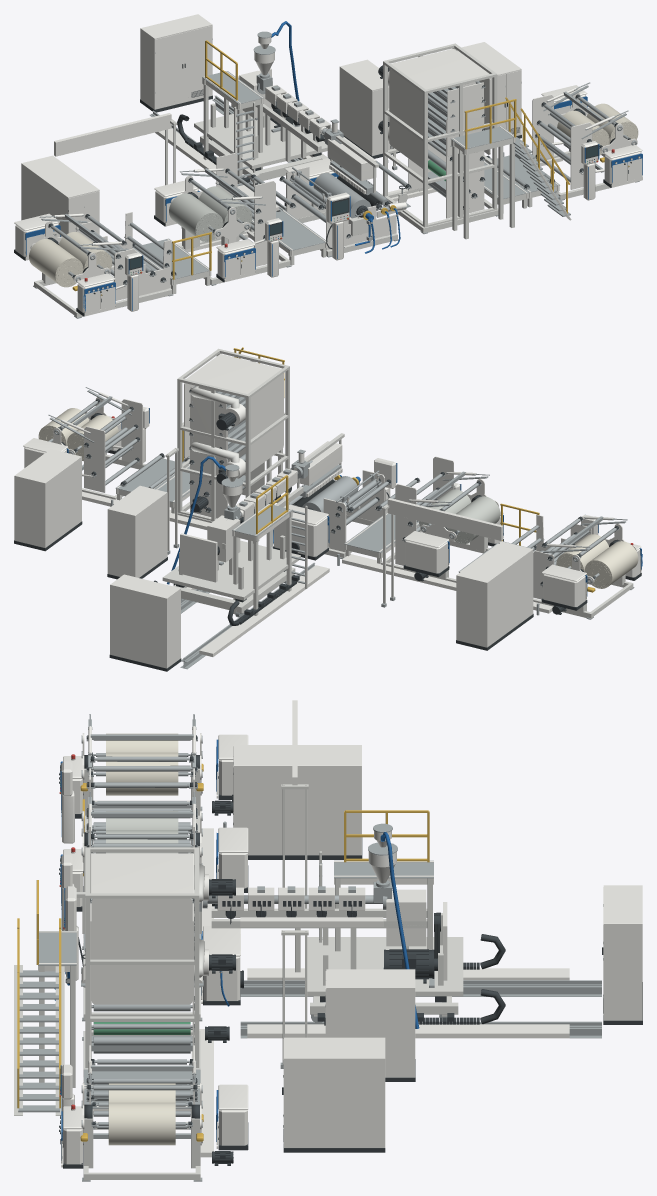
Rendered from extruder-m250009-clay.glb.
3 views of the same model, one above another, from view 1: azimuth 30°, elevation 25°; view 2: azimuth 150°, elevation 25°; view 3: azimuth 270°, elevation 25° (orthographic). The views are drawn at different scales.
Visible parts, largest first — view 1: M250009 · Extruder clay · chalk, M250009 · Extruder clay · porcelain, M250009 · Extruder clay · steel, M250009 · Extruder clay · paper, M250009 · Extruder clay · graphite, M250009 · Extruder clay · ochre, M250009 · Extruder clay · foil, M250009 · Extruder clay · blue, M250009 · Extruder clay · screen; view 2: M250009 · Extruder clay · chalk, M250009 · Extruder clay · porcelain, M250009 · Extruder clay · steel, M250009 · Extruder clay · graphite, M250009 · Extruder clay · paper, M250009 · Extruder clay · foil, M250009 · Extruder clay · ochre, M250009 · Extruder clay · blue; view 3: M250009 · Extruder clay · chalk, M250009 · Extruder clay · steel, M250009 · Extruder clay · porcelain, M250009 · Extruder clay · graphite, M250009 · Extruder clay · paper, M250009 · Extruder clay · ochre, M250009 · Extruder clay · foil, M250009 · Extruder clay · blue, M250009 · Extruder clay · green.
Part boxes in pixels (x1,y1,x2,y2): M250009 · Extruder clay · chalk: [14, 14, 642, 316]; M250009 · Extruder clay · porcelain: [34, 43, 610, 317]; M250009 · Extruder clay · steel: [25, 31, 639, 318]; M250009 · Extruder clay · paper: [29, 103, 638, 287]; M250009 · Extruder clay · graphite: [14, 63, 642, 316]; M250009 · Extruder clay · ochre: [72, 40, 629, 295]; M250009 · Extruder clay · foil: [169, 186, 252, 241]; M250009 · Extruder clay · blue: [25, 21, 642, 311]; M250009 · Extruder clay · screen: [130, 146, 597, 268]; M250009 · Extruder clay · chalk: [14, 354, 641, 668]; M250009 · Extruder clay · porcelain: [82, 348, 633, 618]; M250009 · Extruder clay · steel: [48, 386, 641, 669]; M250009 · Extruder clay · graphite: [14, 389, 641, 671]; M250009 · Extruder clay · paper: [38, 408, 638, 588]; M250009 · Extruder clay · foil: [418, 489, 500, 543]; M250009 · Extruder clay · ochre: [182, 347, 595, 592]; M250009 · Extruder clay · blue: [66, 408, 642, 596]; M250009 · Extruder clay · chalk: [38, 700, 642, 1167]; M250009 · Extruder clay · steel: [18, 714, 603, 1181]; M250009 · Extruder clay · porcelain: [14, 762, 463, 1180]; M250009 · Extruder clay · graphite: [59, 735, 642, 1168]; M250009 · Extruder clay · paper: [106, 733, 178, 1145]; M250009 · Extruder clay · ochre: [17, 763, 429, 1141]; M250009 · Extruder clay · foil: [106, 811, 178, 853]; M250009 · Extruder clay · blue: [54, 739, 419, 1160]; M250009 · Extruder clay · green: [60, 782, 190, 1094].
Bounding box in the file's own units: 16.48 × 4 × 11.29.
